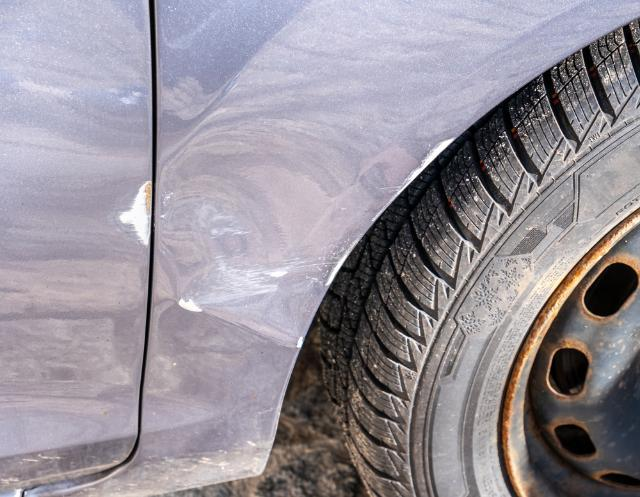dent: (156, 66, 458, 341)
scratch: (109, 181, 154, 247)
